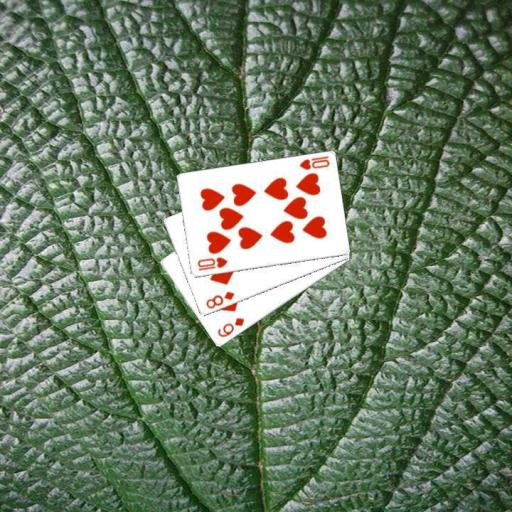card-corner: (214, 314, 245, 340), (203, 288, 236, 310), (194, 254, 229, 272), (296, 153, 330, 171)
